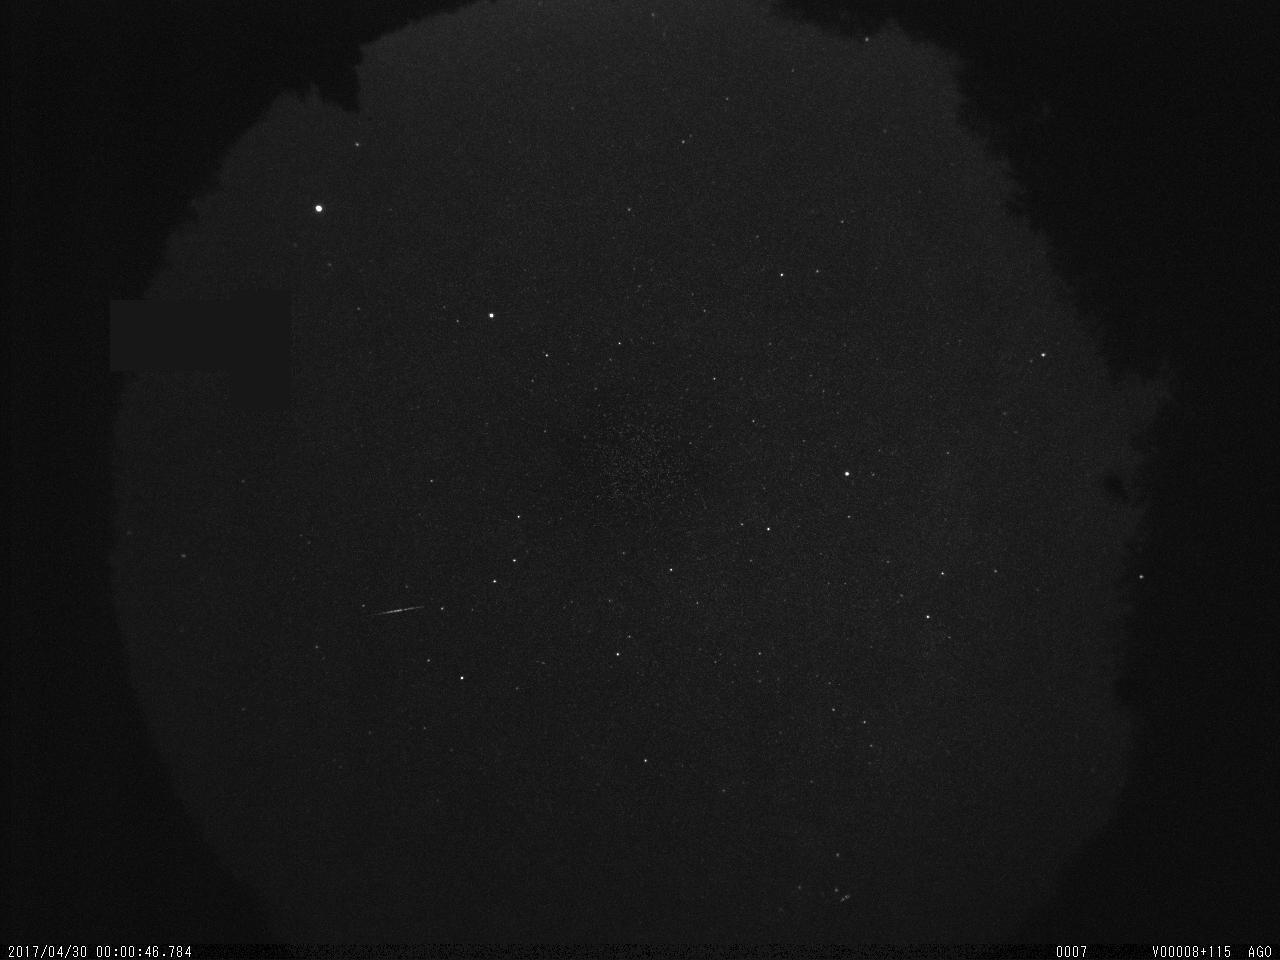meteor: (356, 591, 438, 634)
